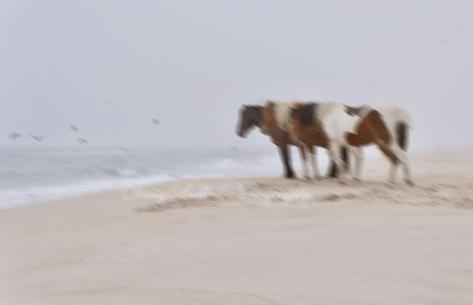horse: (286, 99, 414, 186)
